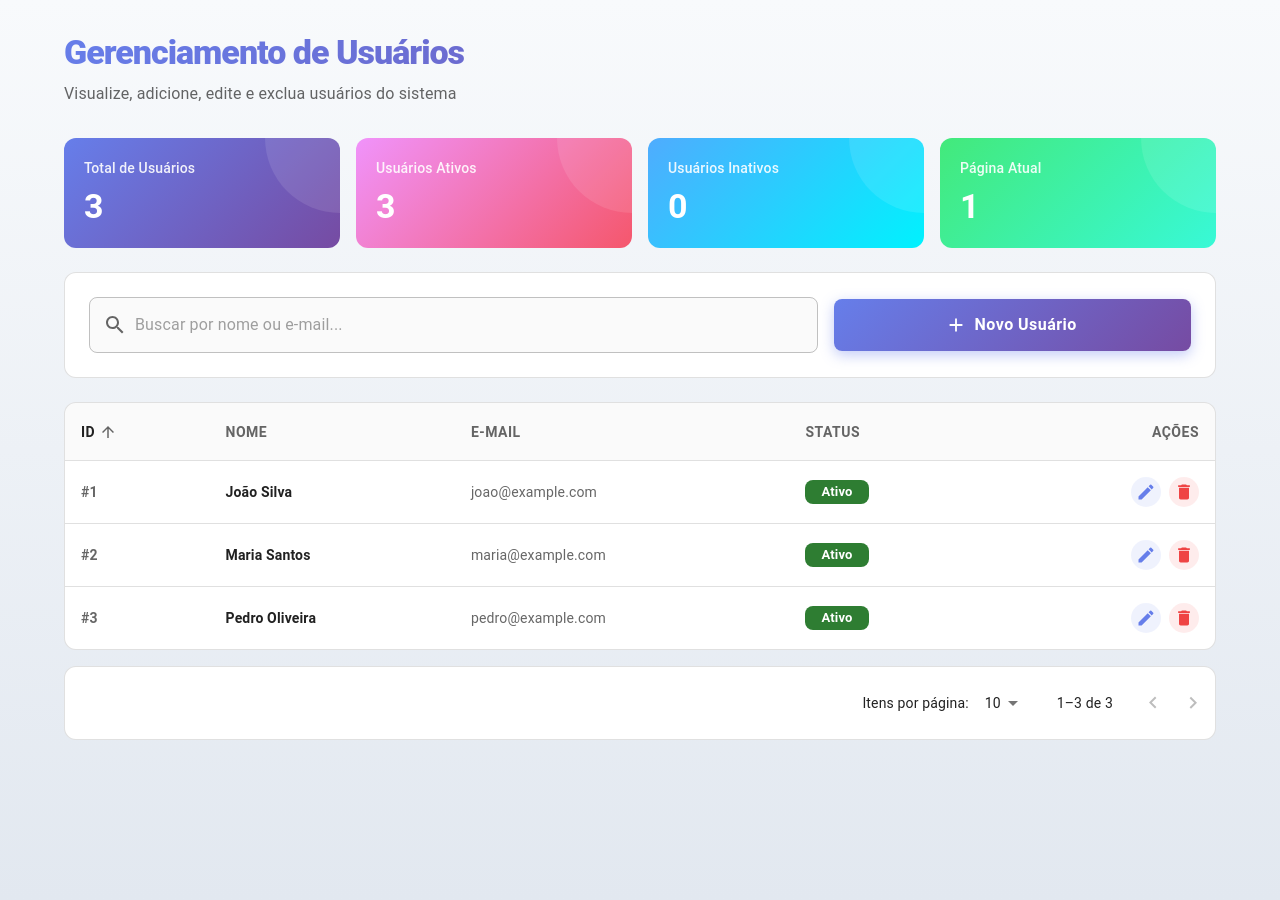
Test: Users - Integration Test › deve abrir modal de confirmação ao clicar no botão excluir
Check: the text "João Silva" is shown, box [210,461,455,524]
# Encontrar e clicar no primeiro botão de excluir
Step 1. Click the button named "excluir usuário" → (1184, 492), box [1169,477,1199,507]
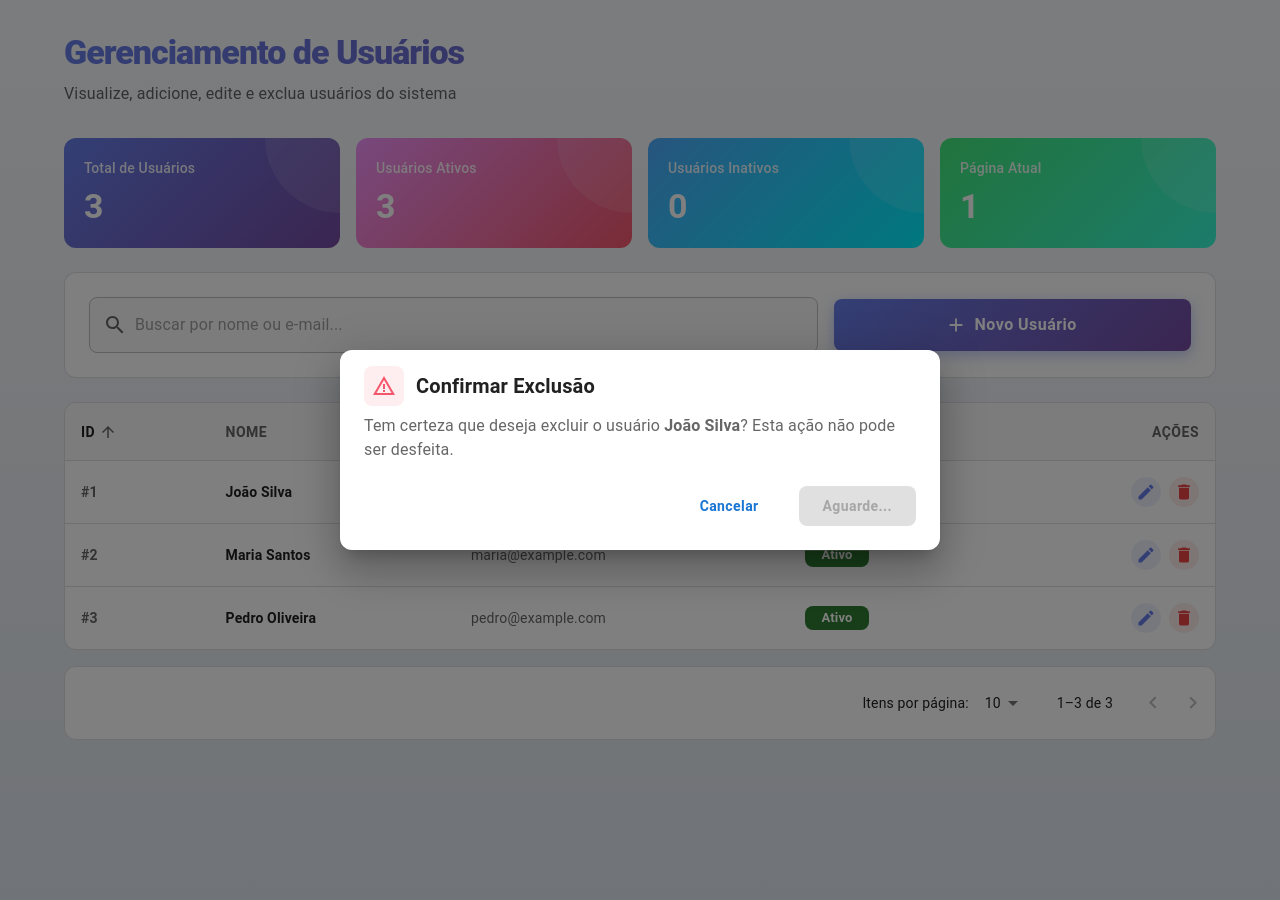
Check: the heading "Confirmar Exclusão" is shown, box [364,366,595,406]
